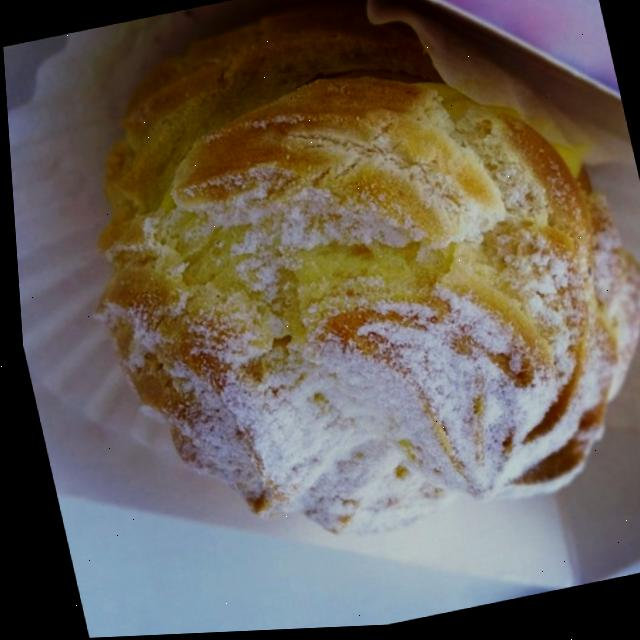炸货点心: (42, 0, 640, 607)
蛋糕甜品: (42, 0, 640, 607)
